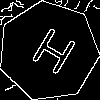H: (23, 26, 79, 85)
